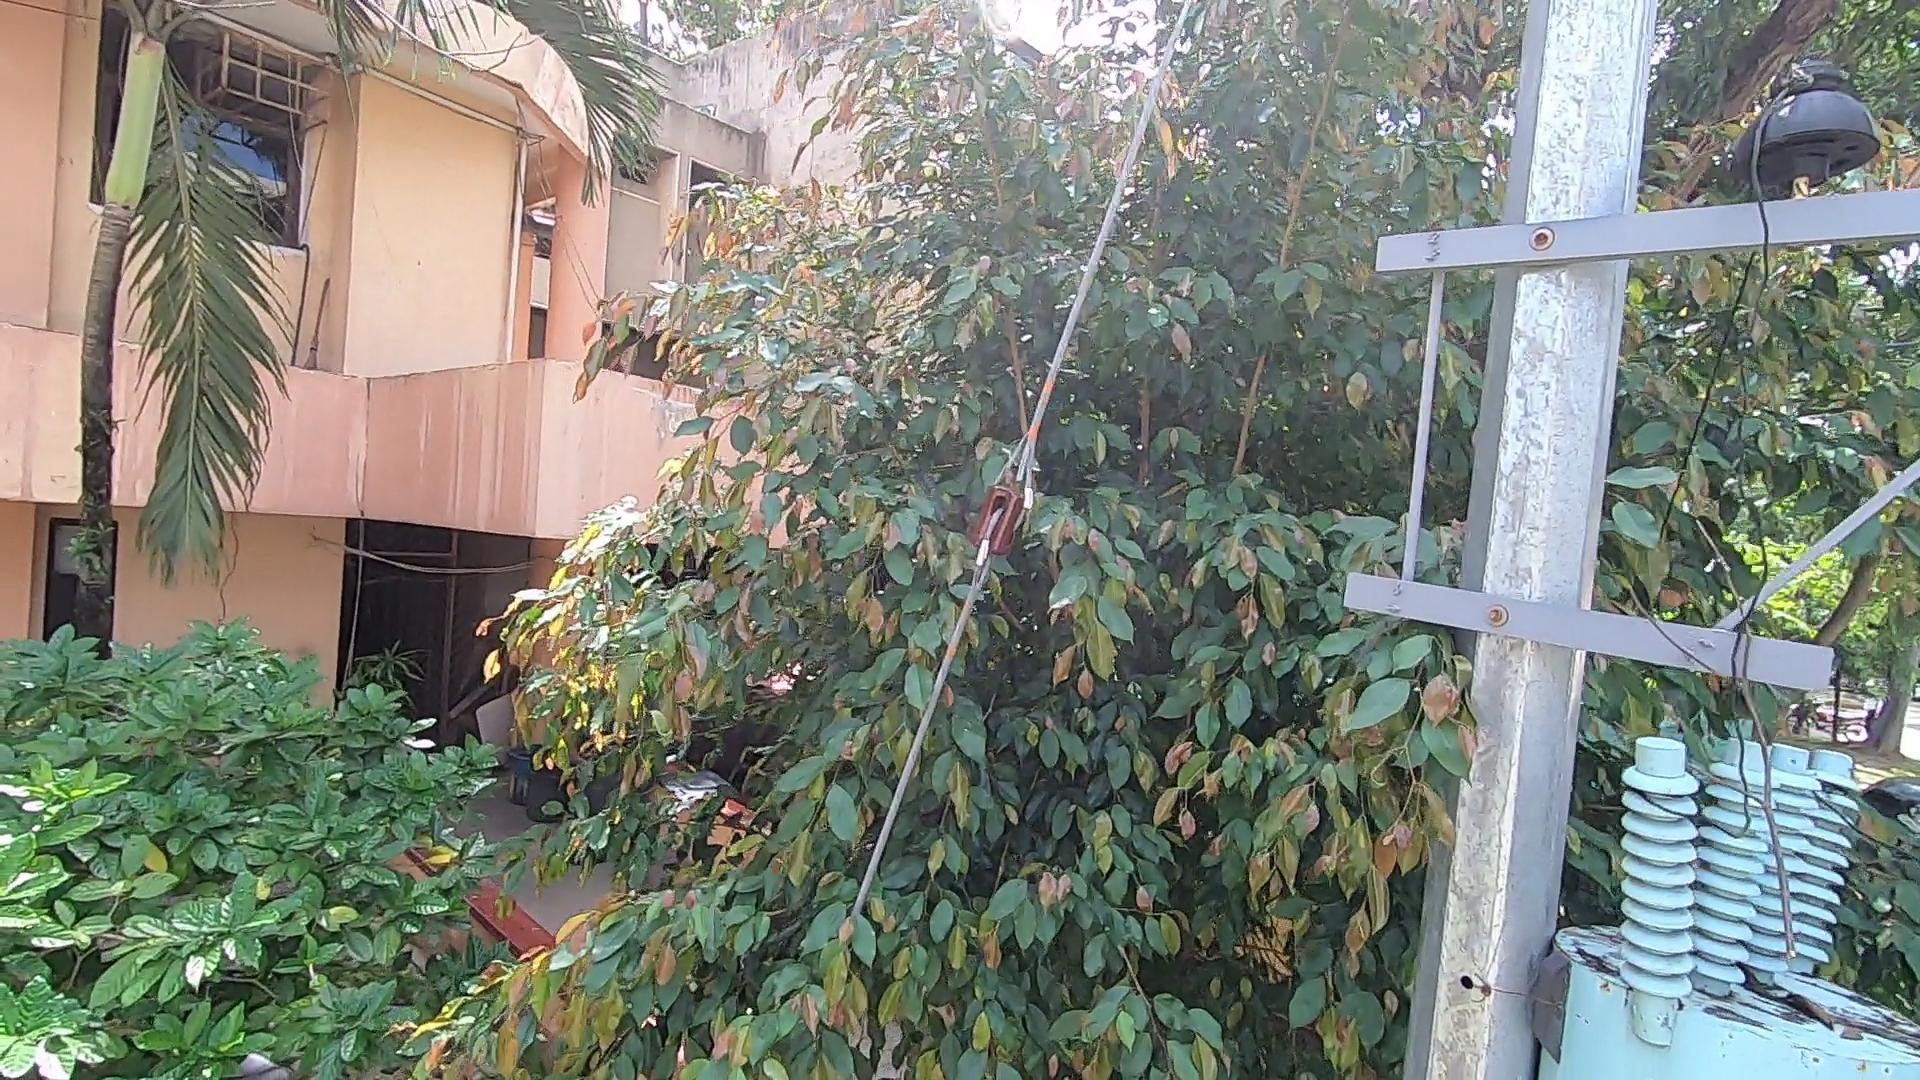leaf: (1726, 948, 1840, 1029)
tree branch: (1586, 493, 1824, 963)
